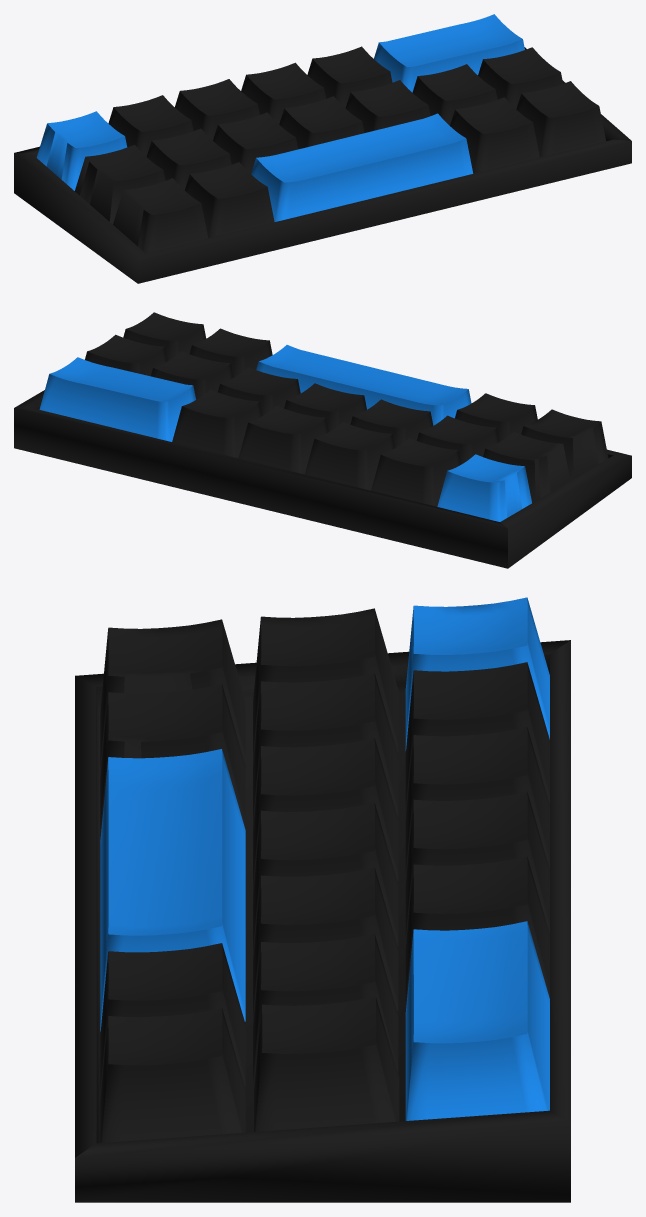
File: SmallKeyborad.gltf
3 views of the same model, one above another, from view 1: azimuth 30°, elevation 25°; view 2: azimuth 150°, elevation 25°; view 3: azimuth 270°, elevation 25° (orthographic). The views are drawn at different scales.
Parts seen in each view (by area): view 1: Plane; view 2: Plane; view 3: Plane.
Part boxes in pixels (x1,y1,x2,y2): Plane: (14,14,631,283); Plane: (14,312,631,568); Plane: (75,597,570,1202).
Size of the model in its own units: 4.6 by 0.6447 by 2.
